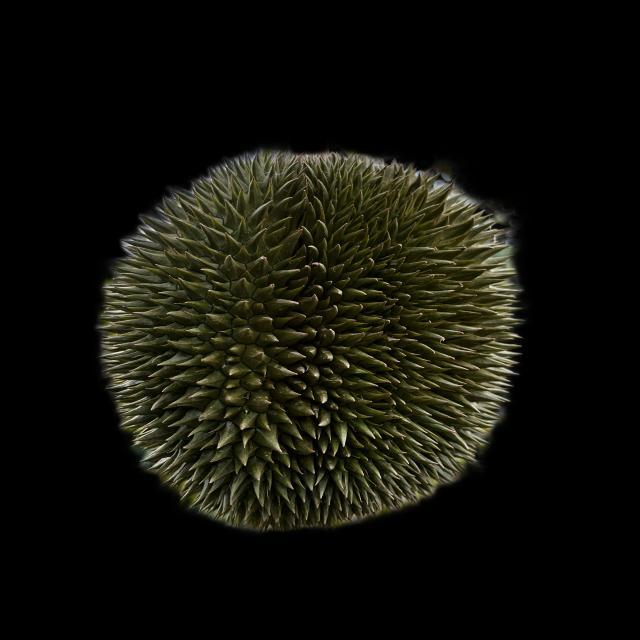immature: (95, 155, 531, 531)
